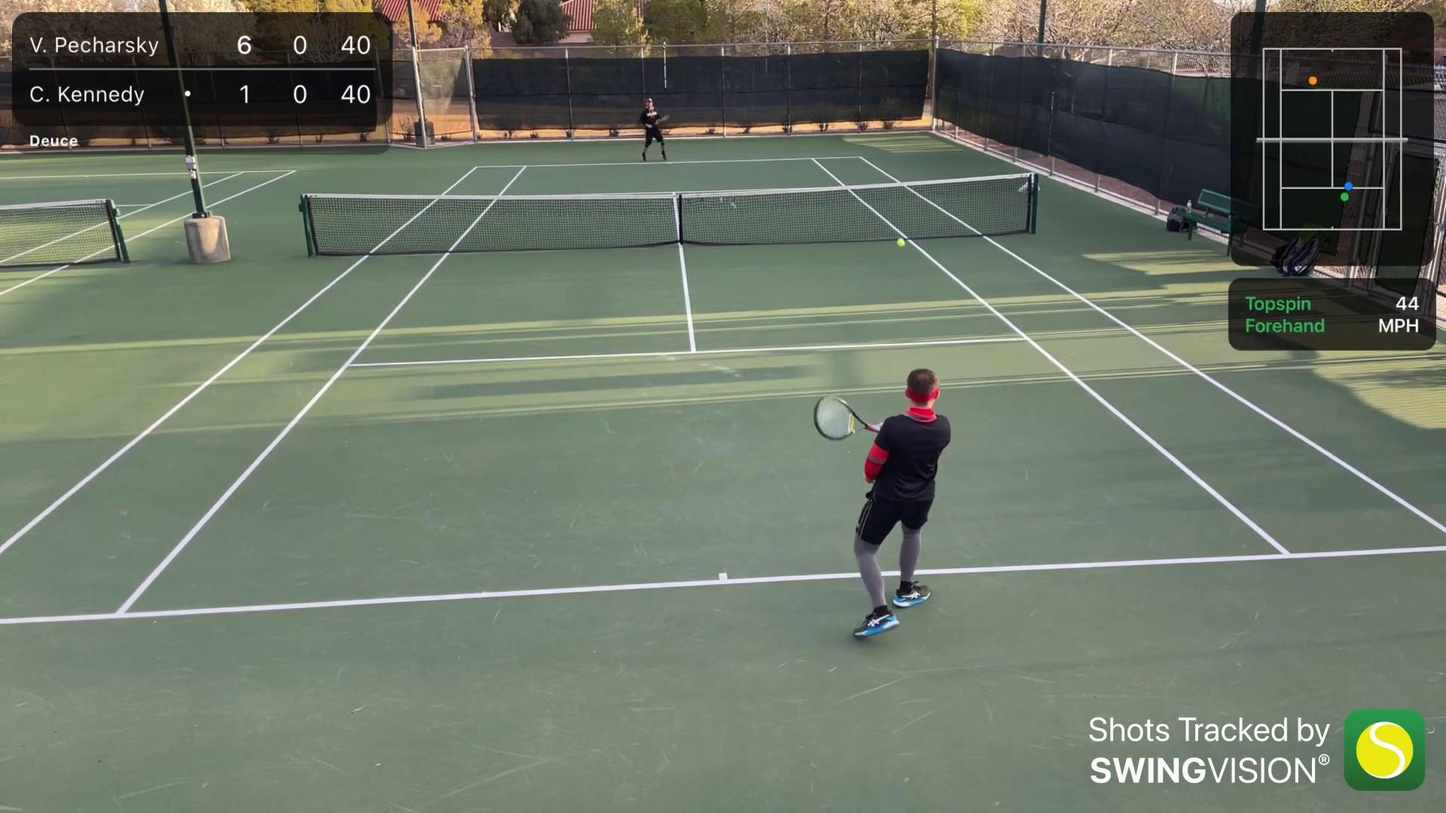ball: (894, 236, 906, 248)
